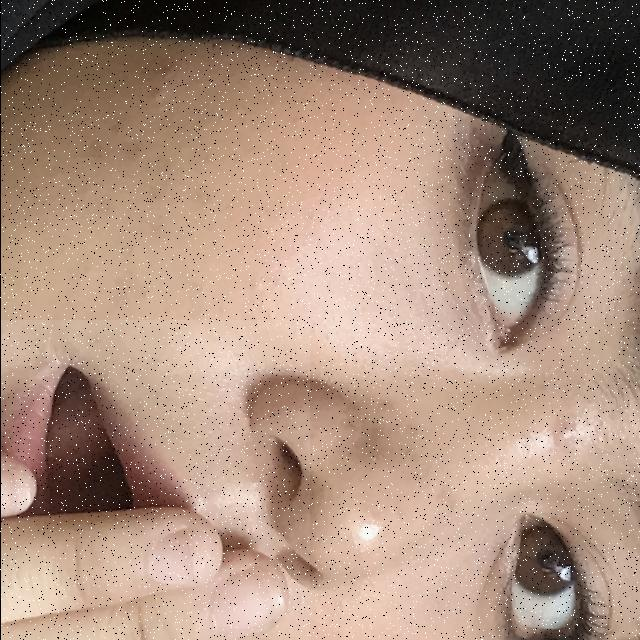ngantuk: (0, 320, 309, 640)
